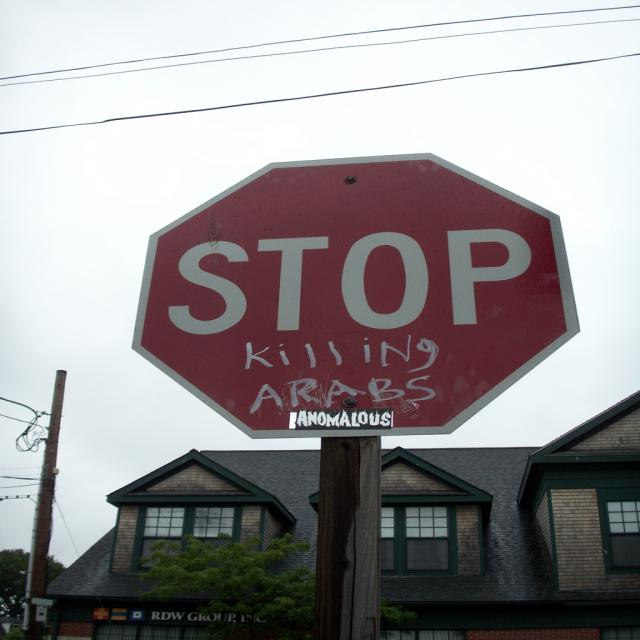Stop-sign: (130, 152, 580, 442)
